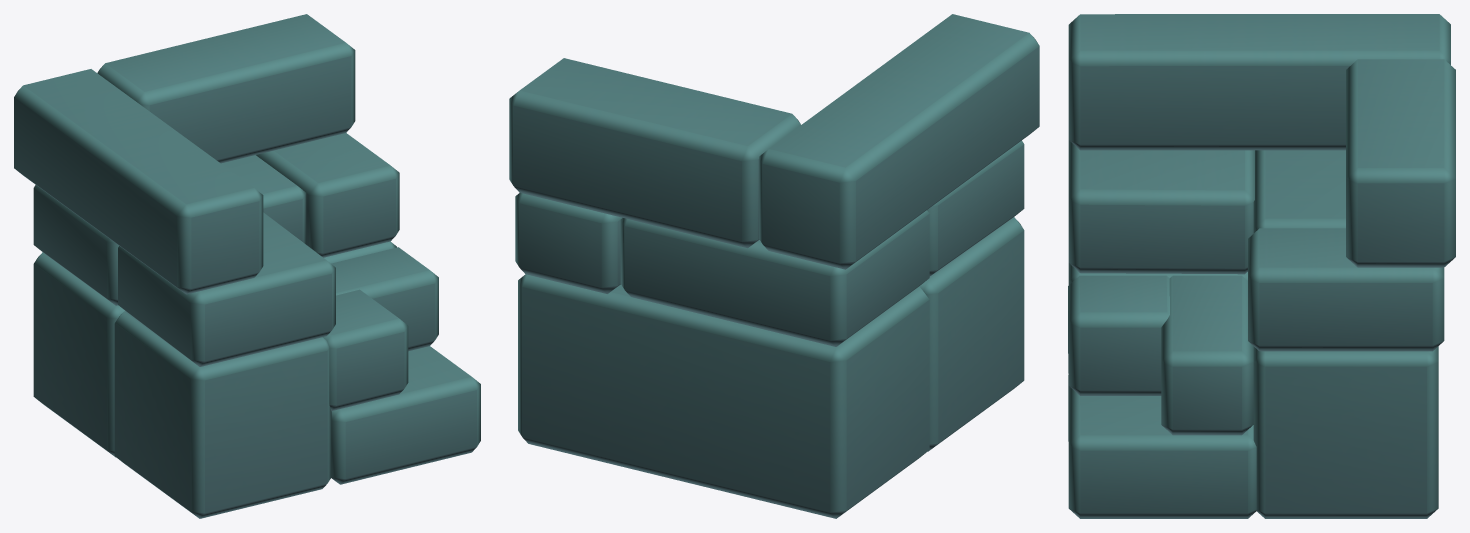
File: stair_corner_concave_hue_1.fbx
3 views of the same model, side by side, from view 1: azimuth 30°, elevation 25°; view 2: azimuth 150°, elevation 25°; view 3: azimuth 270°, elevation 25° (orthographic). The views are drawn at different scales.
Visible parts, largest first — view 1: stair_corner_concave_hue_1; view 2: stair_corner_concave_hue_1; view 3: stair_corner_concave_hue_1.
Boxes of the visible parts, x1,y1,x2,y2 form: stair_corner_concave_hue_1: [14, 14, 480, 518]; stair_corner_concave_hue_1: [509, 14, 1039, 518]; stair_corner_concave_hue_1: [1068, 14, 1455, 518].
Bounding box in the file's own units: 105 × 105 × 105.
